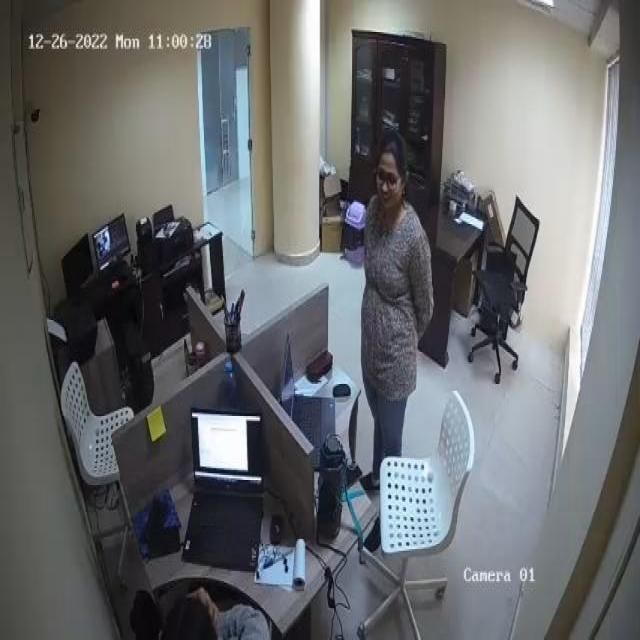bare_hand: (183, 581, 225, 625)
